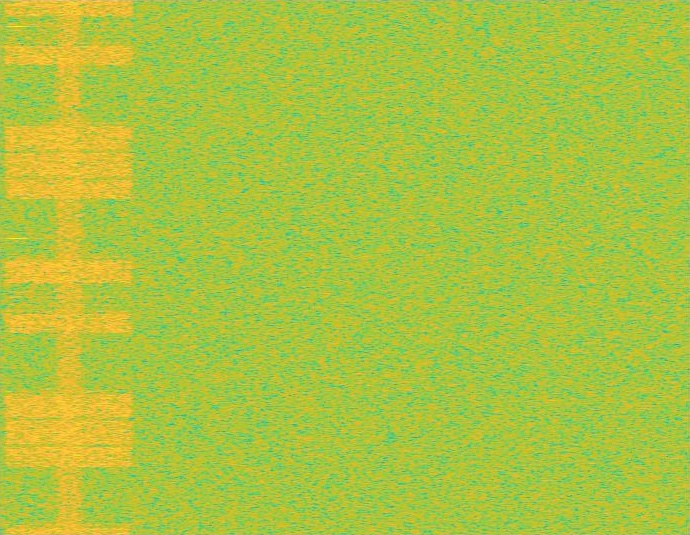DSSS: (53, 0, 85, 534)
LTE: (0, 0, 138, 534)
Radar: (10, 0, 24, 534)
